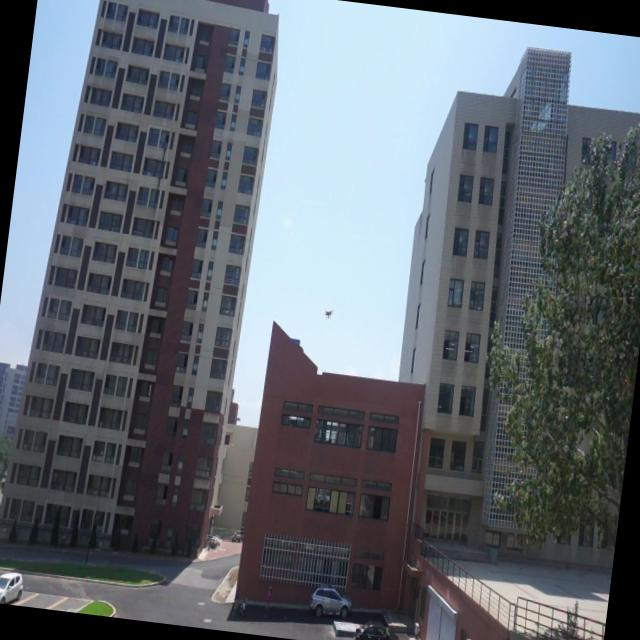drone: (319, 304, 336, 323)
